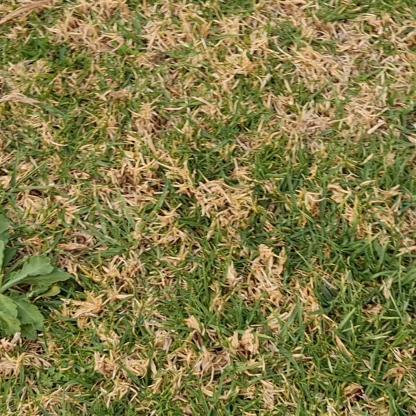Weeds: (0, 205, 71, 342)
